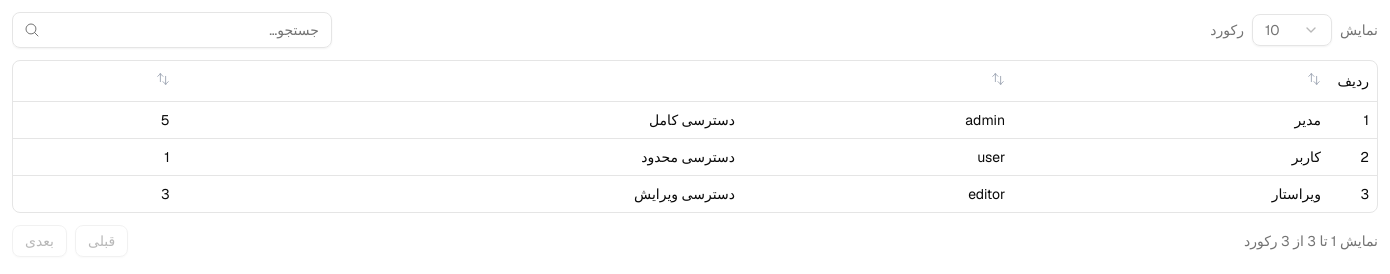
DataTable - functional essentials › filters data by search
Type "مدیر" into the field with placeholder "جستجو…" at (172, 30), box [12,12,332,48]
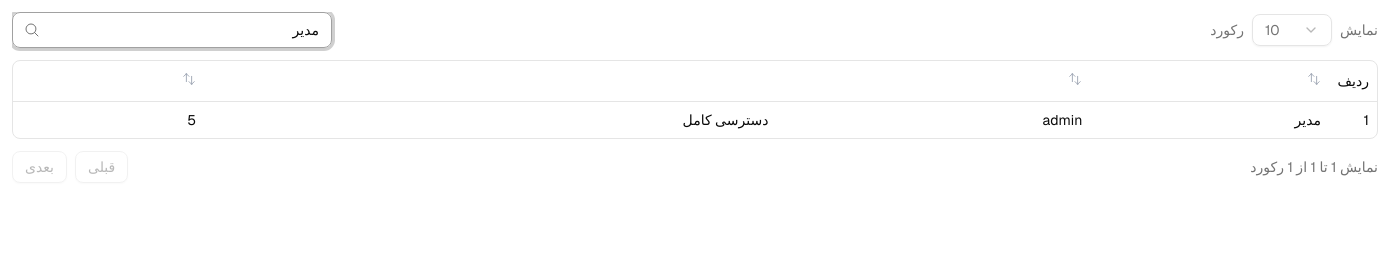
expect the text "مدیر" is shown: met, box [1090,101,1329,138]
expect the text "کاربر" is gone: met
